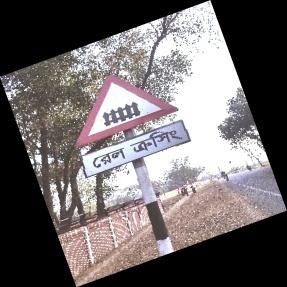Rail-crossing: (75, 74, 189, 181)
